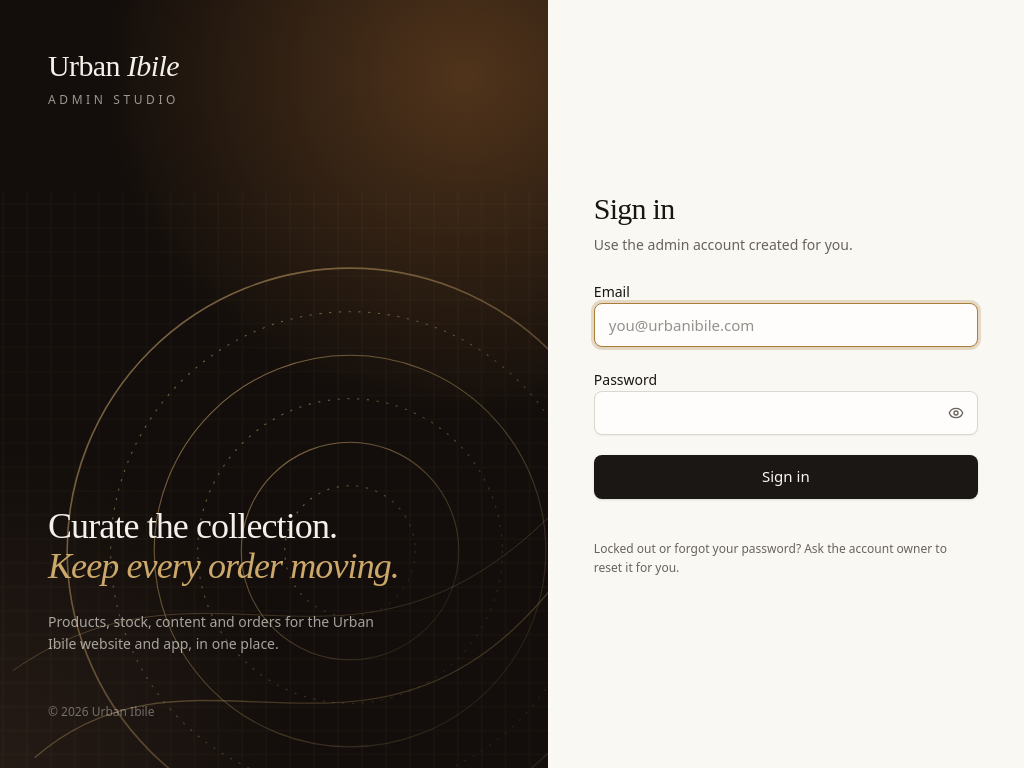
Test: login page › shows a generic error for wrong credentials
This screenshot has width=1024, height=768.
Type "boss@example.com" into the field labelled "Email".
click(786, 324); type("boss@example.com")  # box [594, 302, 978, 346]
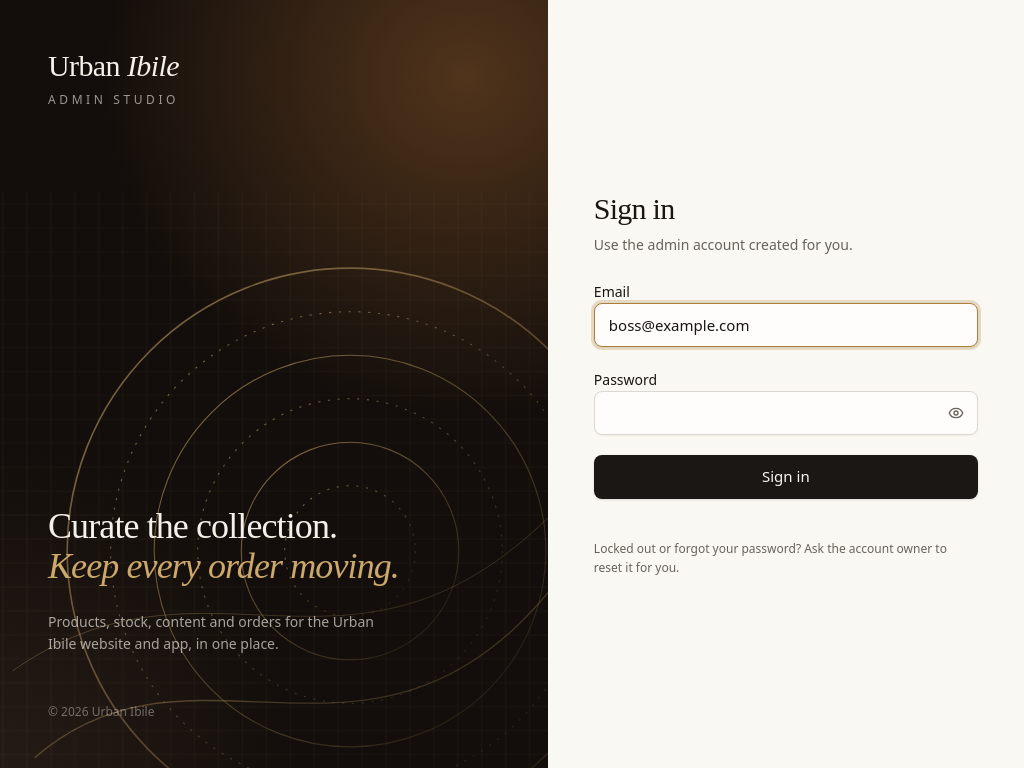
Type "wrong-password" into the password field labelled "Password".
click(786, 412); type("wrong-password")  # box [594, 390, 978, 434]
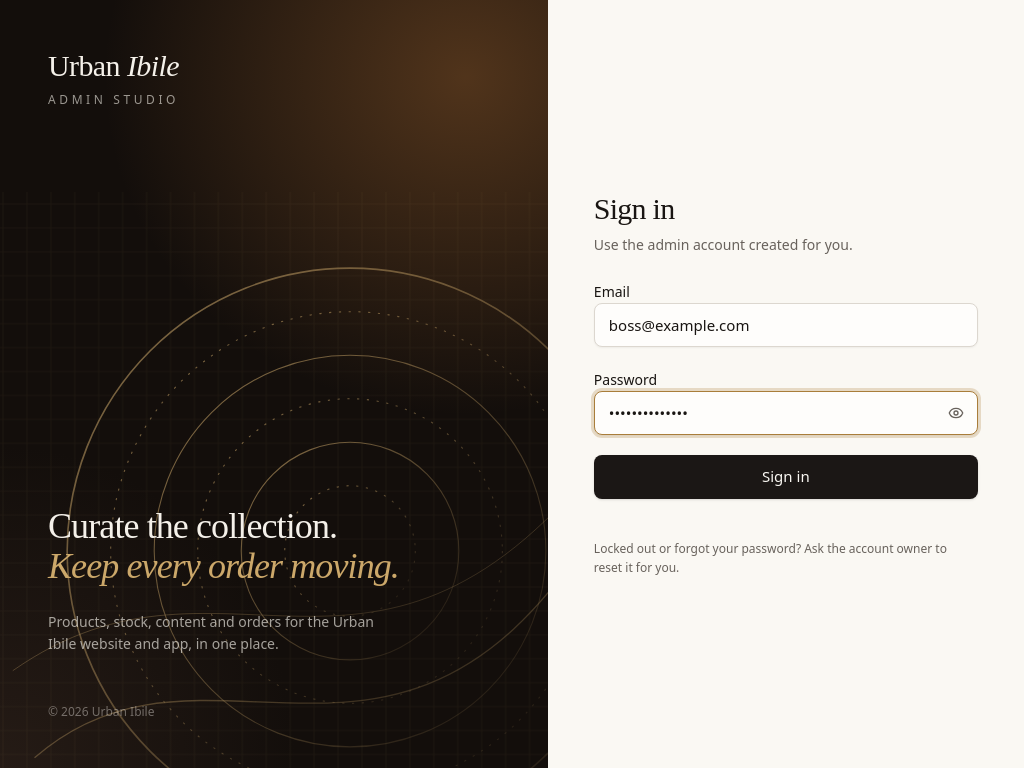
Click the button "Sign in".
click(786, 476)  # box [594, 454, 978, 498]
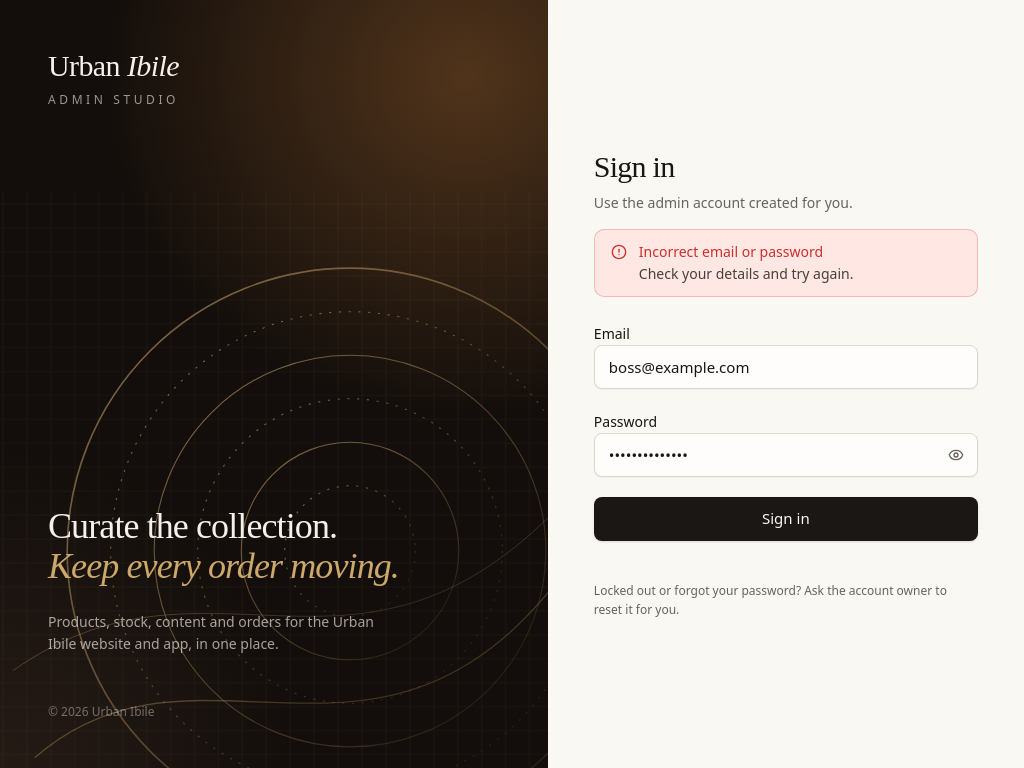
Expected: the button "Sign in" is enabled, [594, 496, 978, 540]
Now the message shows "Incorrect email or password", box [639, 242, 823, 260]
